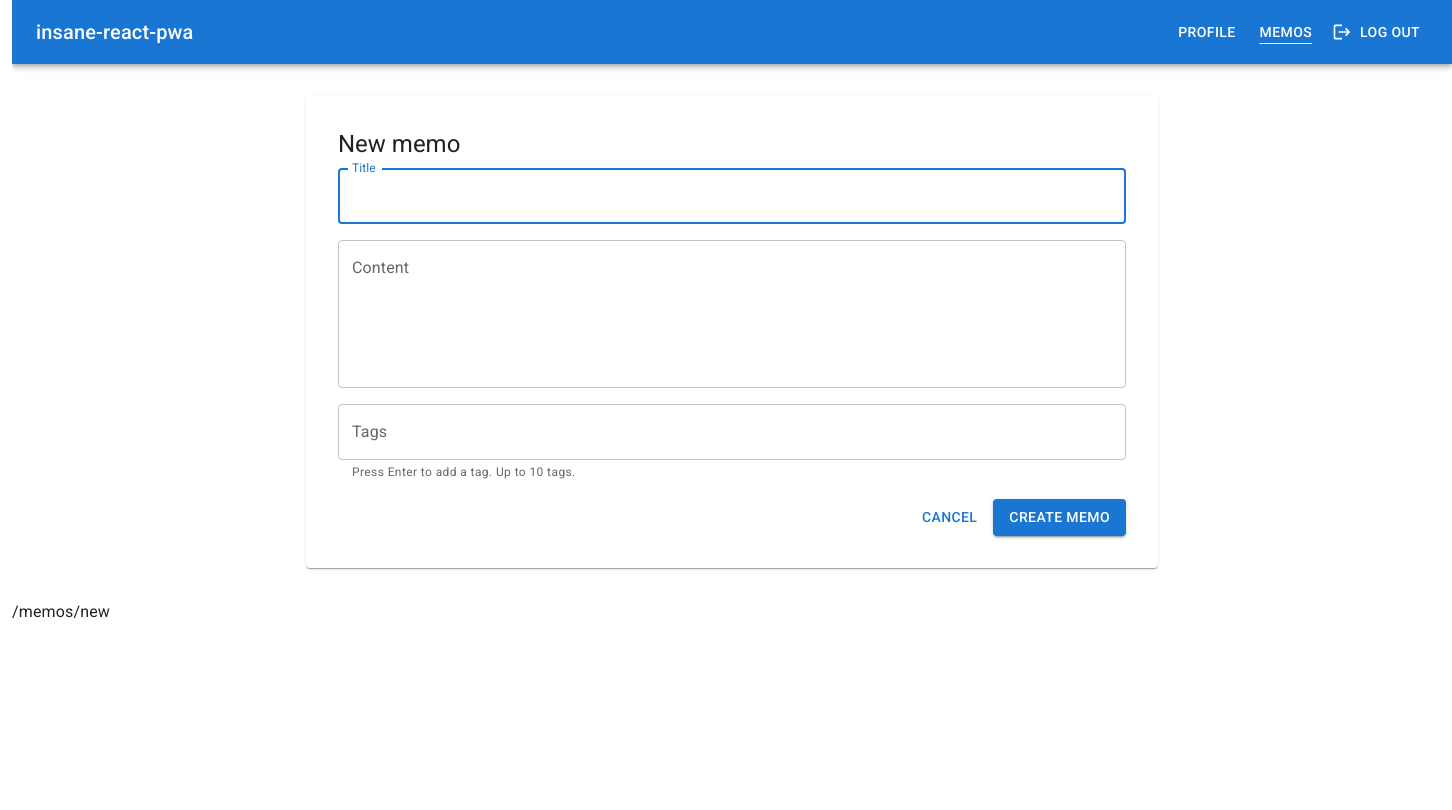
Test case: CreateMemoPage › checks the fields before sending anything
Expected: the heading "New memo" is shown, [338,130,460,158]
Click the button "Create memo".
click(1060, 518)  # box [993,499,1126,536]
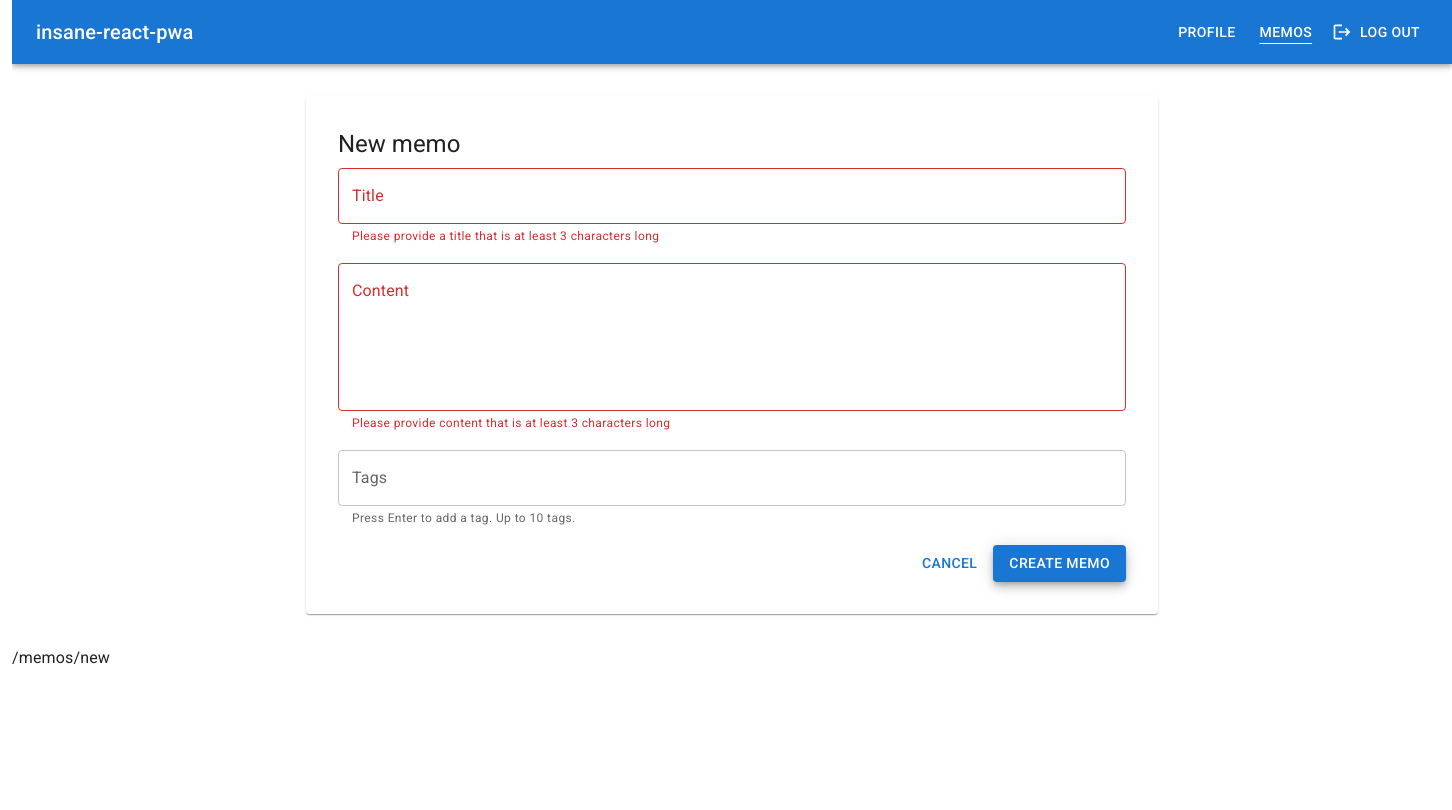
Expected: the text "Please provide a title that is at least 3 characters long" is shown, [352,229,659,243]
Expected: the text "Please provide content that is at least 3 characters long" is shown, [352,416,670,430]
